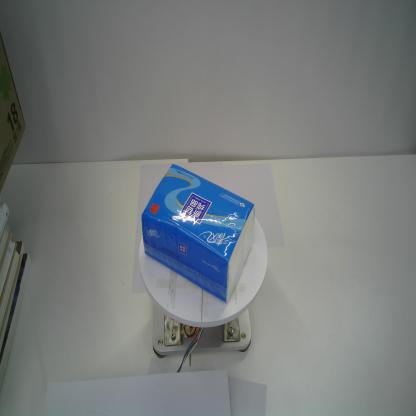Tissue: (140, 162, 256, 305)
